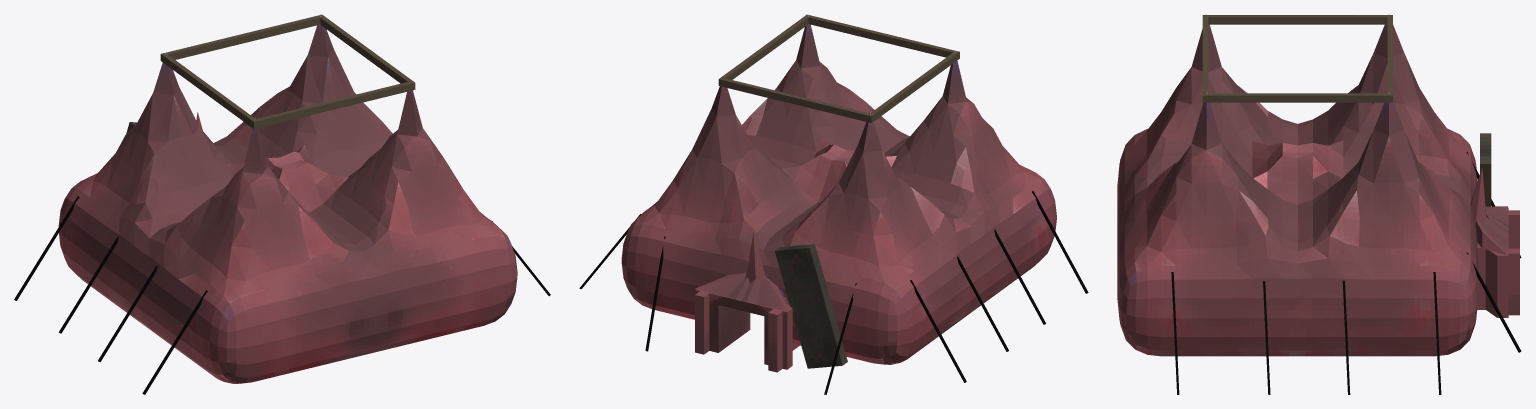
File: circus_tent.gltf
The picture shows the model from 3 angles, left to right: view 1: azimuth 30°, elevation 25°; view 2: azimuth 150°, elevation 25°; view 3: azimuth 270°, elevation 25°; orthographic projection. The views are drawn at different scales.
Parts seen in each view (by area): view 1: mesh (×2); view 2: mesh (×6), cone; view 3: mesh (×9), cone.
Part boxes in pixels (x1,y1,x2,y2): mesh (×2): (58, 14, 517, 383); mesh (×6): (621, 14, 1056, 372); cone: (695, 232, 787, 311); mesh (×9): (1117, 14, 1521, 394); cone: (1470, 167, 1508, 255).
Bounding box in the file's own units: 1.32 × 0.7661 × 1.11.
Materials: 2 (2 with a texture image).
